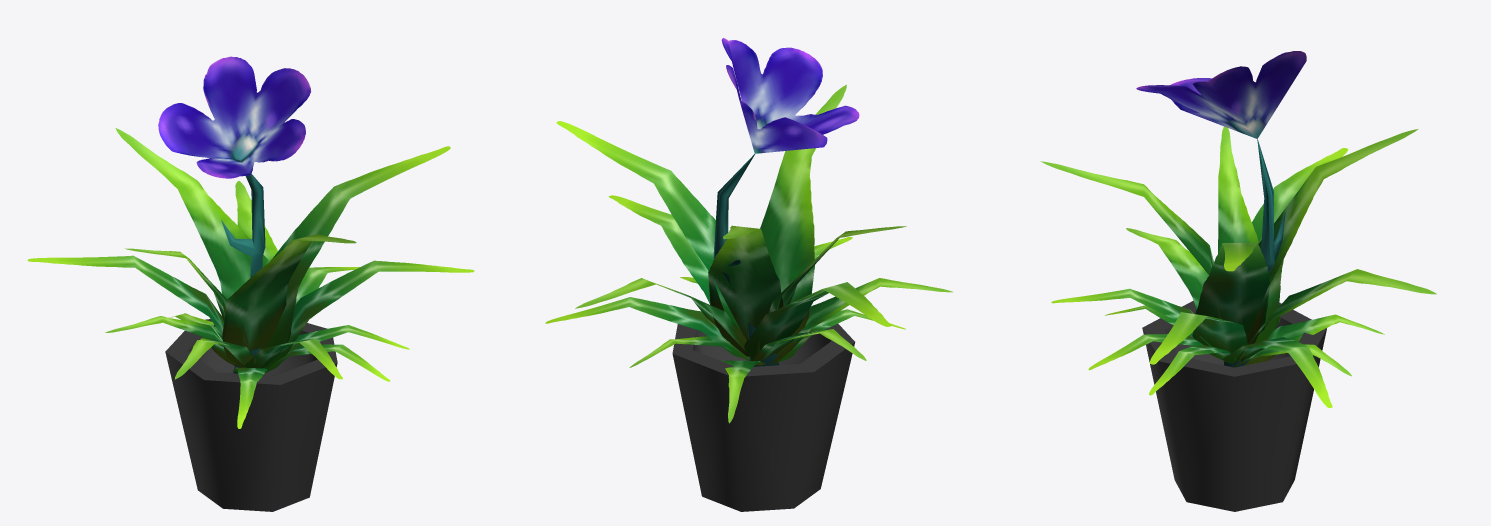
Rendered from SM_PROP_PLANT_pot_v3_01.FBX.
3 views of the same model, side by side, from view 1: azimuth 30°, elevation 25°; view 2: azimuth 150°, elevation 25°; view 3: azimuth 270°, elevation 25° (orthographic). The views are drawn at different scales.
Visible parts, largest first — view 1: SM_PROP_PLANT_pot_v3_01; view 2: SM_PROP_PLANT_pot_v3_01; view 3: SM_PROP_PLANT_pot_v3_01.
Part boxes in pixels (x1,y1,x2,y2): SM_PROP_PLANT_pot_v3_01: (27, 56, 474, 511); SM_PROP_PLANT_pot_v3_01: (545, 38, 953, 511); SM_PROP_PLANT_pot_v3_01: (1040, 51, 1436, 511).
Size of the model in its own units: 123 by 116 by 130.
